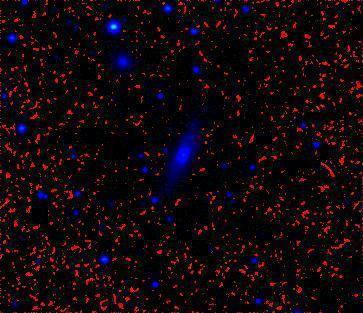star: (9, 0, 39, 21)
